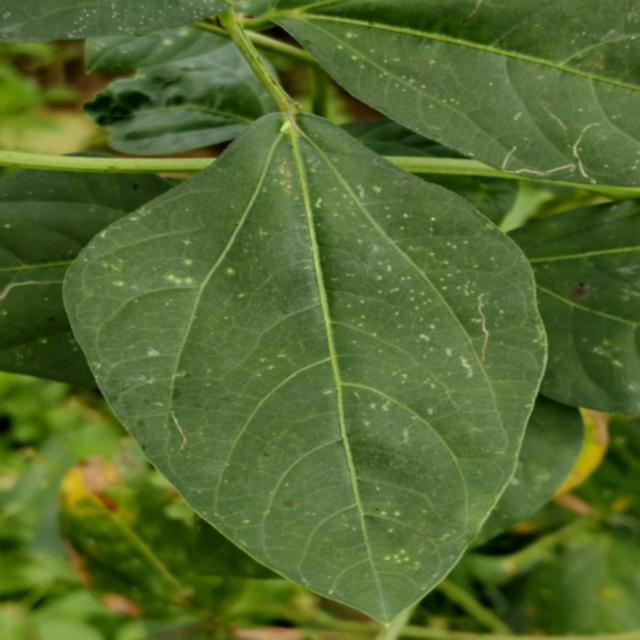sitaw-aphid-high: (64, 112, 546, 620), (275, 0, 640, 176), (508, 200, 640, 419)
